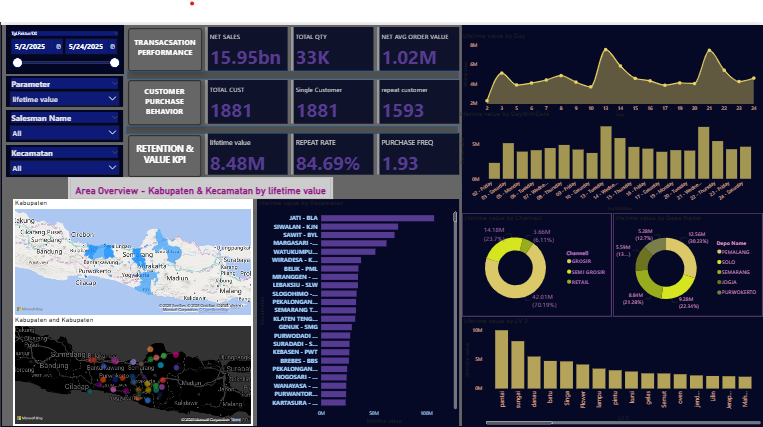

Layout of this report page (visuals, bound fields, positions):
{"tool":"powerbi","page":{"name":"resume","canvas":[1900,1000],"ordinal":0},"visuals":[{"type":"shape","box":[2.5,389,625.9,610.9],"z":0},{"type":"shape","box":[309.2,0,840.3,389],"z":1000},{"type":"shape","box":[2.5,0,309.2,389],"z":2000},{"type":"cardVisual","fields":{"Data":["penjualan 24.NET SALES","penjualan 24.TOTAL QTY","penjualan 24.NET AVG ORDER VALUE"]},"box":[503.7,0,645.8,119.7],"z":3000},{"type":"cardVisual","fields":{"Data":["penjualan 24.lifetime value","penjualan 24.REPEAT RATE","penjualan 24.PURCHASE FREQ"]},"box":[503.7,264.3,645.8,114.7],"z":4000},{"type":"cardVisual","fields":{"Data":["penjualan 24.TOTAL CUST","penjualan 24.Single Customer","penjualan 24.repeat customer"]},"box":[503.7,132.2,645.8,119.7],"z":5000},{"type":"slicer","fields":{"Values":["penjualan 24.Tgl.Faktur/DO"]},"box":[12.5,0,291.7,119.7],"z":6000},{"type":"slicer","fields":{"Values":["penjualan 24.Kecamatan"]},"box":[12.5,299.2,291.7,79.8],"z":7000},{"type":"slicer","fields":{"Values":["Parameter.Parameter"]},"box":[12.5,127.2,291.7,77.3],"z":8000},{"type":"filledMap","fields":{"Category":["penjualan 24.Kabupaten"]},"box":[29.9,433.9,598.4,294.2],"z":9000},{"type":"map","fields":{"Series":["penjualan 24.Kabupaten"],"Category":["penjualan 24.Kabupaten"]},"box":[29.9,725.6,598.4,274.3],"z":10000},{"type":"slicer","fields":{"Values":["penjualan 24.Salesman Name"]},"box":[12.5,211.9,291.7,79.8],"z":11000},{"type":"shape","box":[628.3,389,521.1,610.9],"z":12000},{"type":"clusteredBarChart","fields":{"Y":["penjualan 24.lifetime value"],"Category":["penjualan 24.Kecamatan"]},"box":[638.3,433.9,503.7,566],"z":13000},{"type":"areaChart","fields":{"Y":["penjualan 24.lifetime value"],"Category":["penjualan 24.Tgl.Faktur/DO.Variation.Date Hierarchy.Day"]},"box":[1147.5,17.5,750,217.5],"z":14000},{"type":"clusteredColumnChart","fields":{"Y":["penjualan 24.lifetime value"],"Category":["penjualan 24.DayWithDate"]},"box":[1140,212.5,750,257.5],"z":15000},{"type":"clusteredColumnChart","fields":{"Y":["penjualan 24.lifetime value"],"Category":["penjualan 24.LV 2"]},"box":[1150,727.5,750,272.5],"z":16000},{"type":"donutChart","fields":{"Y":["penjualan 24.lifetime value"],"Category":["penjualan 24.Channell"]},"box":[1150,470,372.5,257.5],"z":17000},{"type":"donutChart","fields":{"Y":["penjualan 24.lifetime value"],"Category":["penjualan 24.Depo Name"]},"box":[1525,470,372.5,257.5],"z":18000},{"type":"textbox","box":[317.5,7.5,185,107.5],"z":19000},{"type":"shape","box":[315,115,827.5,20],"z":20000},{"type":"textbox","box":[317.5,137.5,182.5,112.5],"z":21000},{"type":"textbox","box":[317.5,275,183,105],"z":22000},{"type":"cardVisual","fields":{"Data":["penjualan 24.Map Title"]},"box":[167.1,379,660.8,54.9],"z":22500},{"type":"shape","box":[312.5,252.5,827.5,20],"z":23000}]}

Visuals, with their boxes on the page's 1900x1000 design canvas (x1, y1, x2, y2). These are canvas units, not pixel positions in the 763x427 screenshot, which may show the page scaled, cropped or inside an application window:
shape: 2:389:628:1000
shape: 309:0:1150:389
shape: 2:0:312:389
cardVisual - penjualan 24.NET SALES x penjualan 24.TOTAL QTY: 504:0:1150:120
cardVisual - penjualan 24.lifetime value x penjualan 24.REPEAT RATE: 504:264:1150:379
cardVisual - penjualan 24.TOTAL CUST x penjualan 24.Single Customer: 504:132:1150:252
slicer - penjualan 24.Tgl.Faktur/DO: 12:0:304:120
slicer - penjualan 24.Kecamatan: 12:299:304:379
slicer - Parameter.Parameter: 12:127:304:204
filledMap - penjualan 24.Kabupaten: 30:434:628:728
map - penjualan 24.Kabupaten x penjualan 24.Kabupaten: 30:726:628:1000
slicer - penjualan 24.Salesman Name: 12:212:304:292
shape: 628:389:1149:1000
clusteredBarChart - penjualan 24.lifetime value x penjualan 24.Kecamatan: 638:434:1142:1000
areaChart - penjualan 24.lifetime value x penjualan 24.Tgl.Faktur/DO.Variation.Date Hierarchy.Day: 1148:18:1898:235
clusteredColumnChart - penjualan 24.lifetime value x penjualan 24.DayWithDate: 1140:212:1890:470
clusteredColumnChart - penjualan 24.lifetime value x penjualan 24.LV 2: 1150:728:1900:1000
donutChart - penjualan 24.lifetime value x penjualan 24.Channell: 1150:470:1522:728
donutChart - penjualan 24.lifetime value x penjualan 24.Depo Name: 1525:470:1898:728
textbox: 318:8:502:115
shape: 315:115:1142:135
textbox: 318:138:500:250
textbox: 318:275:500:380
cardVisual - penjualan 24.Map Title: 167:379:828:434
shape: 312:252:1140:272
